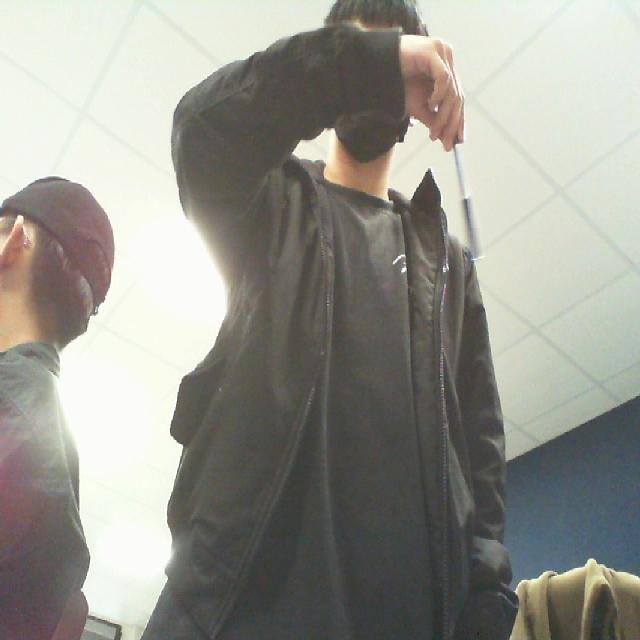Pen: (437, 129, 512, 288)
